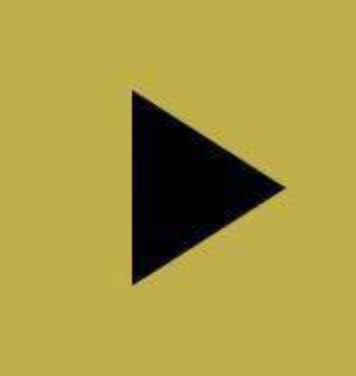ImgButton: (1, 1, 355, 375)
